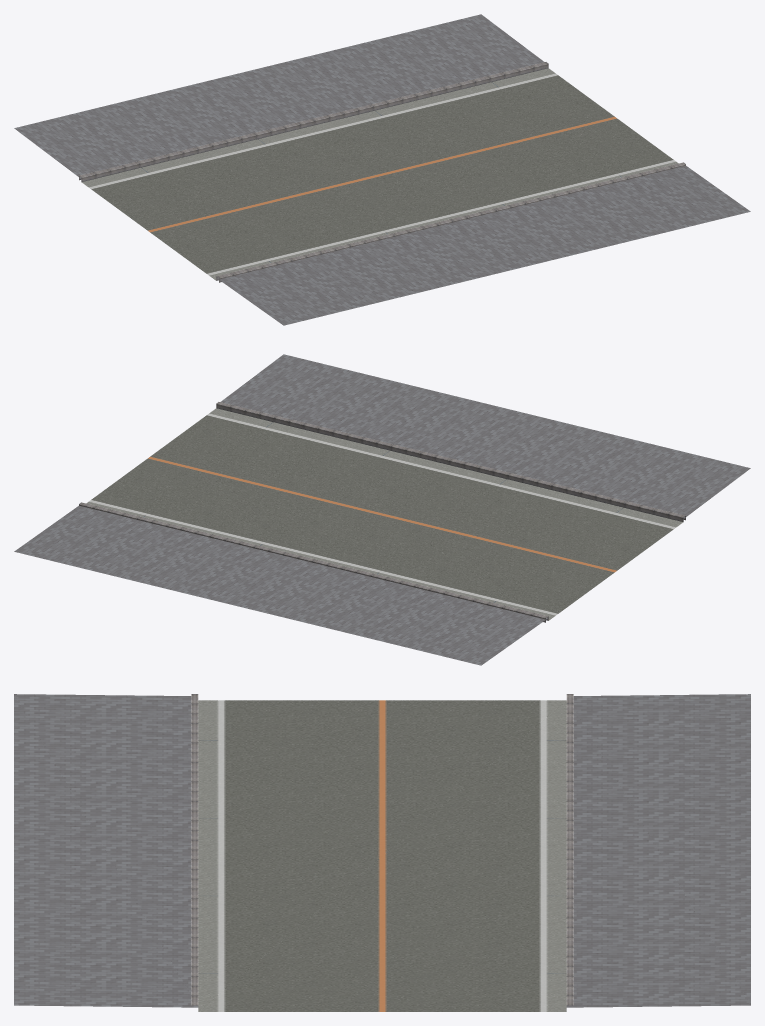
The model's file is Street_16m.fbx.
3 views of the same model, one above another, from view 1: azimuth 30°, elevation 25°; view 2: azimuth 150°, elevation 25°; view 3: azimuth 270°, elevation 25° (orthographic). The views are drawn at different scales.
Parts seen in each view (by area): view 1: 001_roadway_8x16m, 500_sidewalk_w4m_16m, 500_sidewalk_w4m_16m.001, 100_curb_16m, 100_curb_16m.001; view 2: 001_roadway_8x16m, 500_sidewalk_w4m_16m.001, 500_sidewalk_w4m_16m, 100_curb_16m.001, 100_curb_16m; view 3: 001_roadway_8x16m, 500_sidewalk_w4m_16m.001, 500_sidewalk_w4m_16m, 100_curb_16m.001, 100_curb_16m.
Boxes of the visible parts, left/top/right/bottom form: 001_roadway_8x16m: left=81, top=68, right=678, bottom=280; 500_sidewalk_w4m_16m: left=14, top=14, right=544, bottom=178; 500_sidewalk_w4m_16m.001: left=217, top=165, right=750, bottom=325; 100_curb_16m: left=79, top=62, right=548, bottom=181; 100_curb_16m.001: left=216, top=162, right=685, bottom=282; 001_roadway_8x16m: left=86, top=408, right=683, bottom=620; 500_sidewalk_w4m_16m.001: left=220, top=354, right=750, bottom=518; 500_sidewalk_w4m_16m: left=14, top=505, right=547, bottom=665; 100_curb_16m.001: left=216, top=402, right=685, bottom=521; 100_curb_16m: left=79, top=502, right=548, bottom=622; 001_roadway_8x16m: left=198, top=700, right=566, bottom=1011; 500_sidewalk_w4m_16m.001: left=14, top=694, right=198, bottom=1007; 500_sidewalk_w4m_16m: left=566, top=694, right=750, bottom=1007; 100_curb_16m.001: left=191, top=694, right=198, bottom=1005; 100_curb_16m: left=566, top=694, right=573, bottom=1005.
Size of the model in its own units: 16 by 0.15 by 16.
